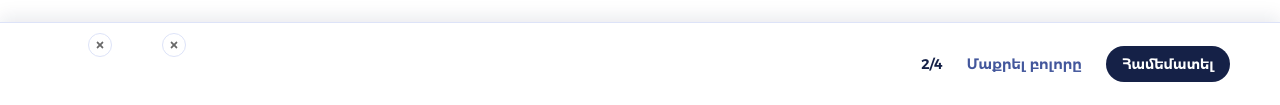
Test: CompareTray › removing a product drops it from the bar
Click the button named "Հեռացնել — Apple iPhone 17 Pro Max 256GB Cosmic Orange" at coordinates (100, 45), box [88,33,112,57]
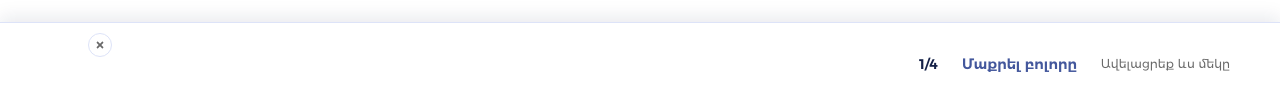
Expected: the number of list items is 1, [50,33,112,95]
Now the text "1/4" is shown, box [919,54,938,74]
